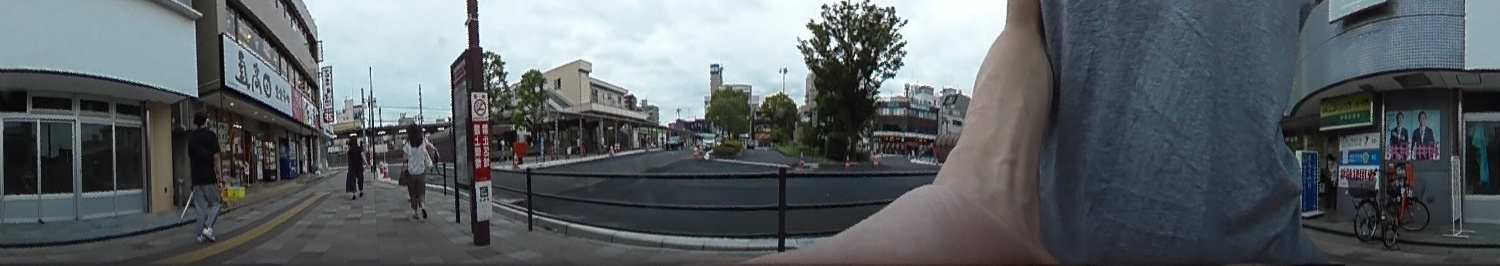difficult_person: (429, 142, 440, 174), (497, 136, 506, 164)
person: (185, 108, 224, 241), (401, 122, 433, 220), (345, 133, 367, 201)
